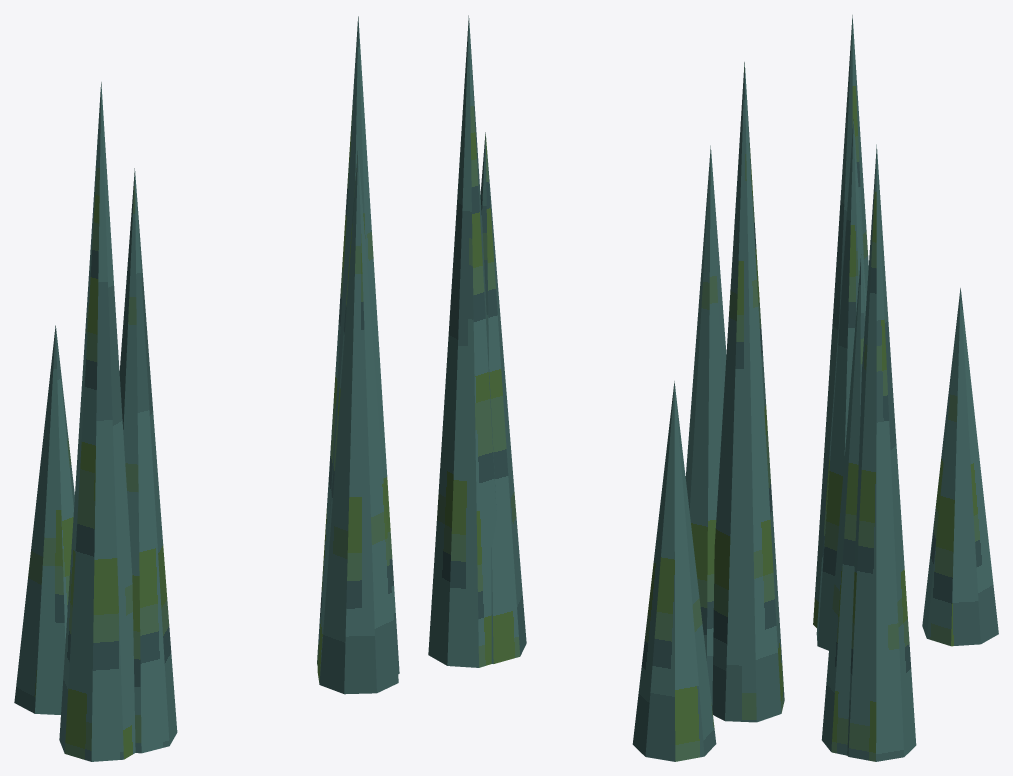
Rendered from weed_0.glb.
3 views of the same model, side by side, from view 1: azimuth 30°, elevation 25°; view 2: azimuth 150°, elevation 25°; view 3: azimuth 270°, elevation 25° (orthographic). The views are drawn at different scales.
Visible parts, largest first — view 1: weed_1; view 2: weed_1; view 3: weed_1.
Part boxes in pixels (x1=…): weed_1: x1=14, y1=16, x2=399, y2=761; weed_1: x1=428, y1=15, x2=784, y2=761; weed_1: x1=813, y1=15, x2=998, y2=761.
Bounding box in the file's own units: 0.4165 × 0.7669 × 0.2117.
Materials: 1 (1 with a texture image).
